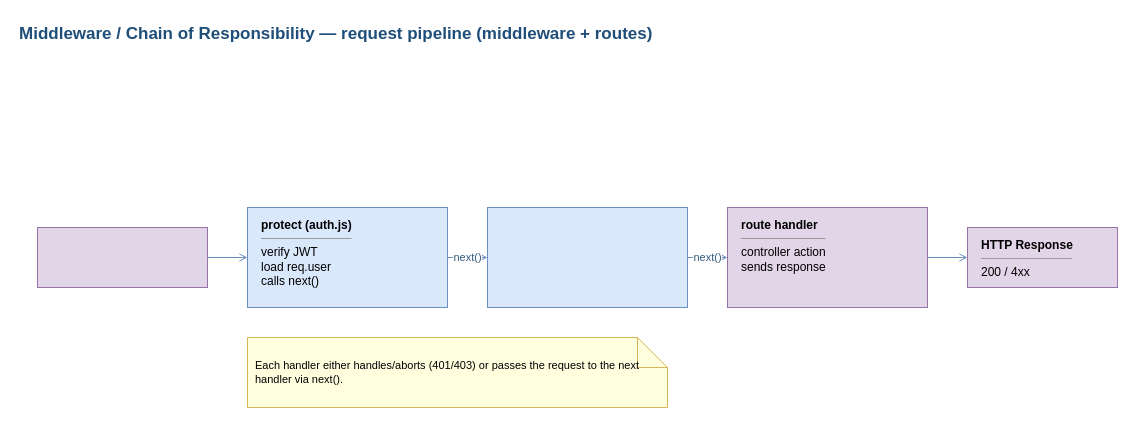
This 1135x425 diagram has some shape labels left out. The shapes that lost their labels are listed below. From the top down, each one's centre as x and y in pixels, then its label:
At (122,257): "HTTP Request POST /api/bookings".
At (587,257): "admin (admin.js) check role === admin calls next()".
